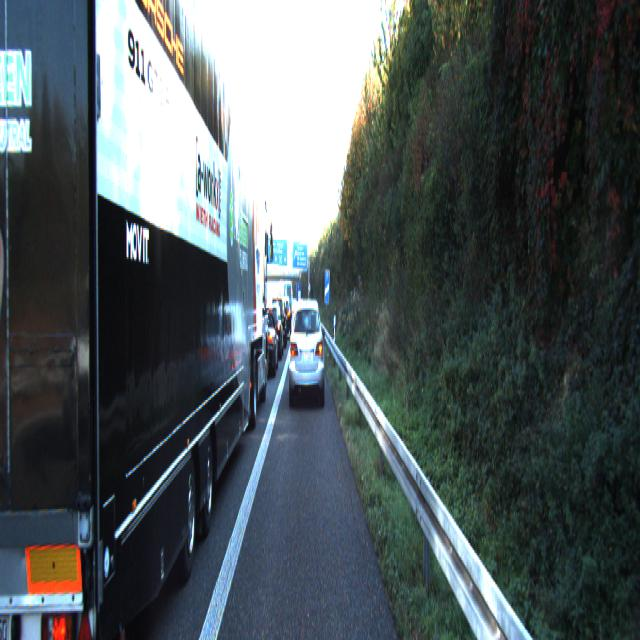Car: (16, 0, 269, 639), (288, 295, 324, 406), (249, 310, 279, 376)
